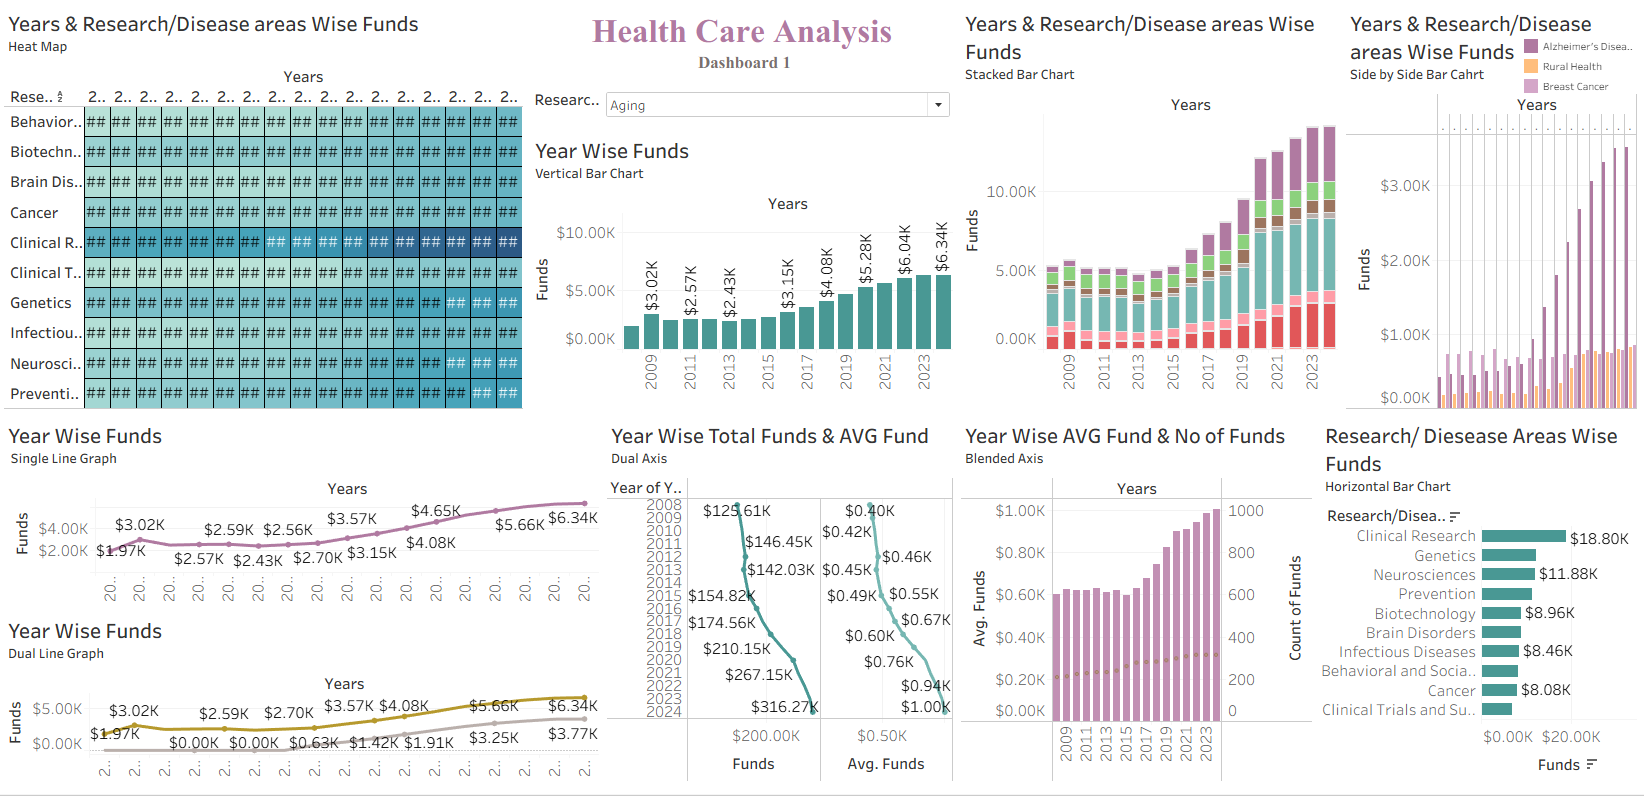

Layout of this report page (visuals, bound fields, positions):
{"tool":"tableau","page":{"name":"Dashboard 1","canvas":[1000,1000],"units":"permille","ordinal":0},"visuals":[{"type":"worksheet","title":"Heat Map","mark":"Square","rows":["Research/Disease Areas   (Dollars in millions and rounded)"],"cols":["Pivot Field Names"],"box":[4.8,10,318,514.4]},{"type":"text","box":[322.9,10,259.5,104.9]},{"type":"worksheet","title":"Stacked Bar Chart","mark":"Bar","rows":["Pivot Field Values"],"cols":["Pivot Field Names"],"box":[582.4,10,232.3,514.4]},{"type":"worksheet","title":"Side by Side Bar Cahrt","mark":"Automatic","rows":["Pivot Field Values"],"cols":["Pivot Field Names","Research/Disease Areas   (Dollars in millions and rounded)"],"box":[814.7,10,180.5,514.4]},{"type":"legend","title":"Side by Side Bar Cahrt","param":"[federated.0tu128s0auxqbs14vhvve1ej0de9].[none:Research/Disease Areas   (Dollars","box":[922.8,53.7,72.4,76.2]},{"type":"filter","title":"Vertical Bar Chart","param":"[federated.0tu128s0auxqbs14vhvve1ej0de9].[none:Research/Disease Areas   (Dollars","box":[322.9,114.9,259.5,53.7]},{"type":"worksheet","title":"Vertical Bar Chart","mark":"Bar","rows":["Pivot Field Values"],"cols":["Pivot Field Names"],"box":[322.9,168.5,259.5,355.8]},{"type":"worksheet","title":"Single Line Graph","mark":"Line","rows":["Pivot Field Values"],"cols":["Pivot Field Names"],"box":[4.8,524.3,363.9,243.5]},{"type":"worksheet","title":"Dual Axis","mark":"Automatic","rows":["Pivot Field Names"],"cols":["Pivot Field Values","Pivot Field Values"],"box":[368.7,524.3,213.8,465.7]},{"type":"worksheet","title":"Blended Axis","mark":"Bar","rows":["Pivot Field Values","Pivot Field Values"],"cols":["Pivot Field Names"],"box":[582.5,524.3,217.1,465.7]},{"type":"worksheet","title":"Horizontal Bar Chart","mark":"Automatic","rows":["Research/Disease Areas   (Dollars in millions and rounded)"],"cols":["Pivot Field Values"],"box":[799.6,524.3,195.5,465.7]},{"type":"worksheet","title":"Dual Line Graph","mark":"Line","rows":["Pivot Field Values"],"cols":["Pivot Field Names"],"box":[4.8,767.8,363.9,222.2]}]}

Visuals, with their boxes on the dashboard's canvas, which has no fixed pixel size, in thousandths of its width and height (x1, y1, x2, y2). These are canvas units, not pixel positions in the 1644x796 screenshot, which may show the page scaled, cropped or inside an application window:
"Heat Map" worksheet (Square marks): <box>5,10,323,524</box>
text: <box>323,10,582,115</box>
"Stacked Bar Chart" worksheet (Bar marks): <box>582,10,815,524</box>
"Side by Side Bar Cahrt" worksheet: <box>815,10,995,524</box>
"Side by Side Bar Cahrt" legend: <box>923,54,995,130</box>
"Vertical Bar Chart" filter: <box>323,115,582,169</box>
"Vertical Bar Chart" worksheet (Bar marks): <box>323,168,582,524</box>
"Single Line Graph" worksheet (Line marks): <box>5,524,369,768</box>
"Dual Axis" worksheet: <box>369,524,582,990</box>
"Blended Axis" worksheet (Bar marks): <box>582,524,800,990</box>
"Horizontal Bar Chart" worksheet: <box>800,524,995,990</box>
"Dual Line Graph" worksheet (Line marks): <box>5,768,369,990</box>
